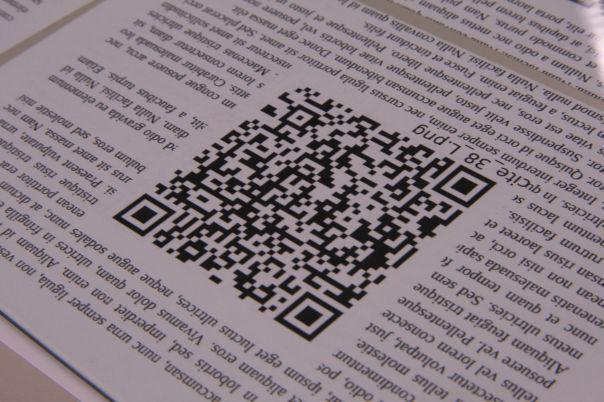Finder pattern: (273, 289, 342, 340), (432, 166, 494, 208), (115, 195, 176, 236)
